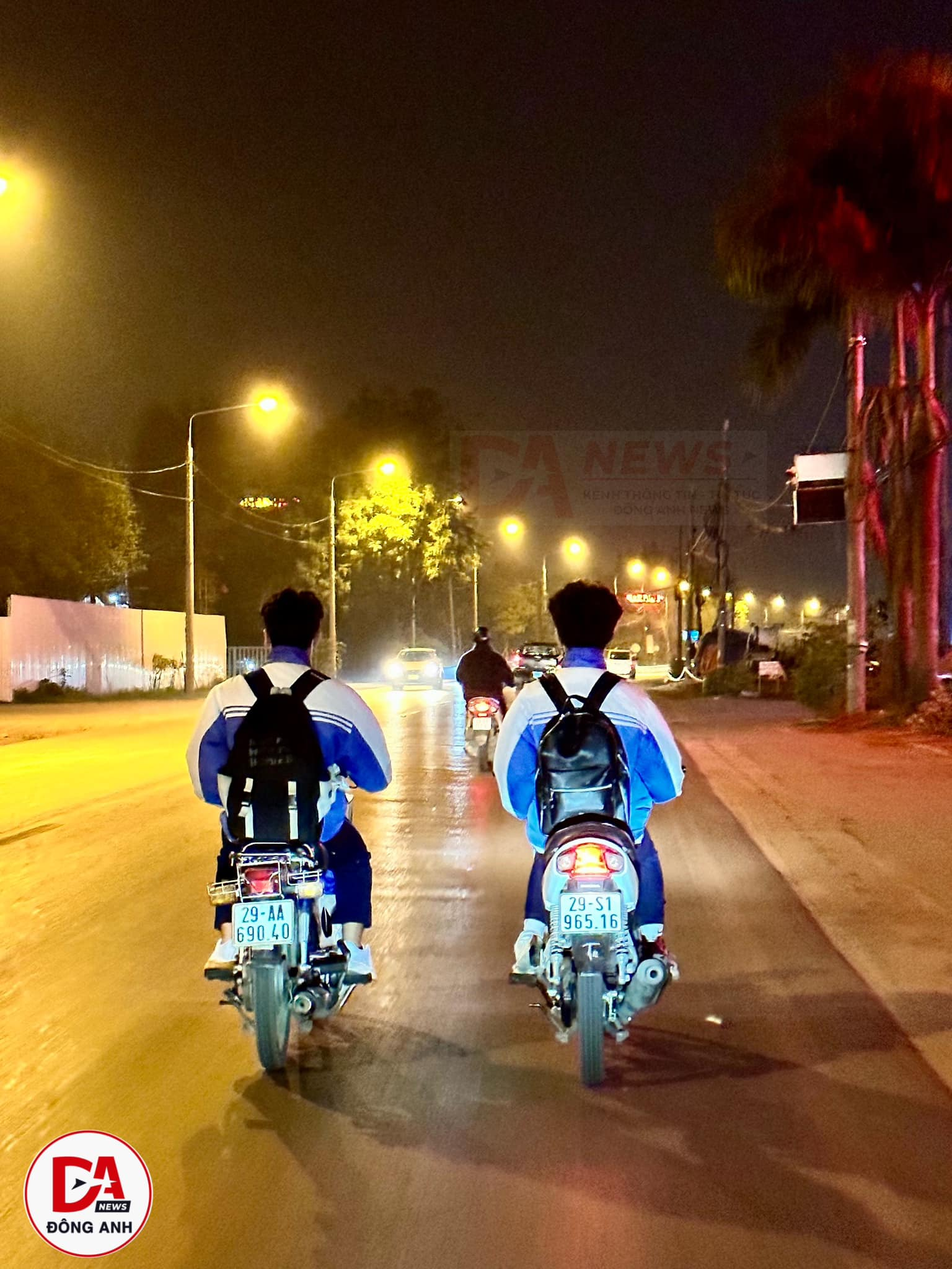bien_so: (550, 886, 630, 942), (220, 900, 302, 954)
